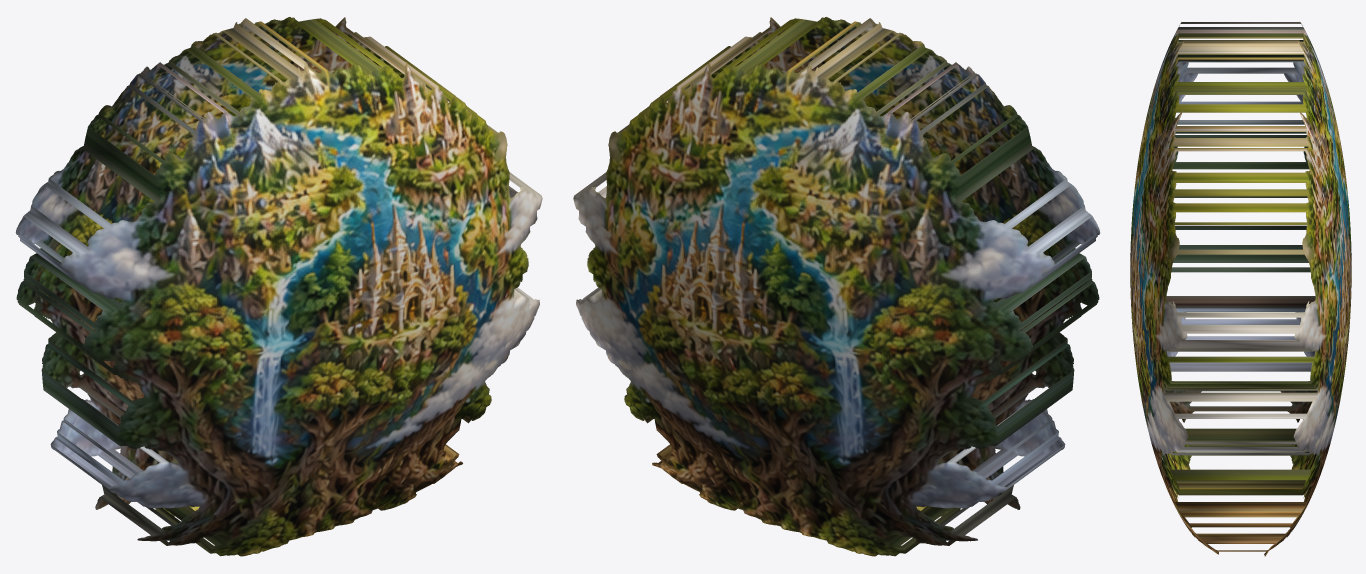
3 views of the same model, side by side, from view 1: azimuth 30°, elevation 25°; view 2: azimuth 150°, elevation 25°; view 3: azimuth 270°, elevation 25° (orthographic). The views are drawn at different scales.
Parts seen in each view (by area): view 1: civilizations:8; view 2: civilizations:8; view 3: civilizations:8.
Part boxes in pixels (bbox=[...]): civilizations:8: bbox=[15, 17, 542, 556]; civilizations:8: bbox=[573, 17, 1100, 556]; civilizations:8: bbox=[1130, 22, 1351, 556].
Bounding box in the file's own units: 0.9878 × 0.9574 × 0.4199.
Materials: 1 (1 with a texture image).
